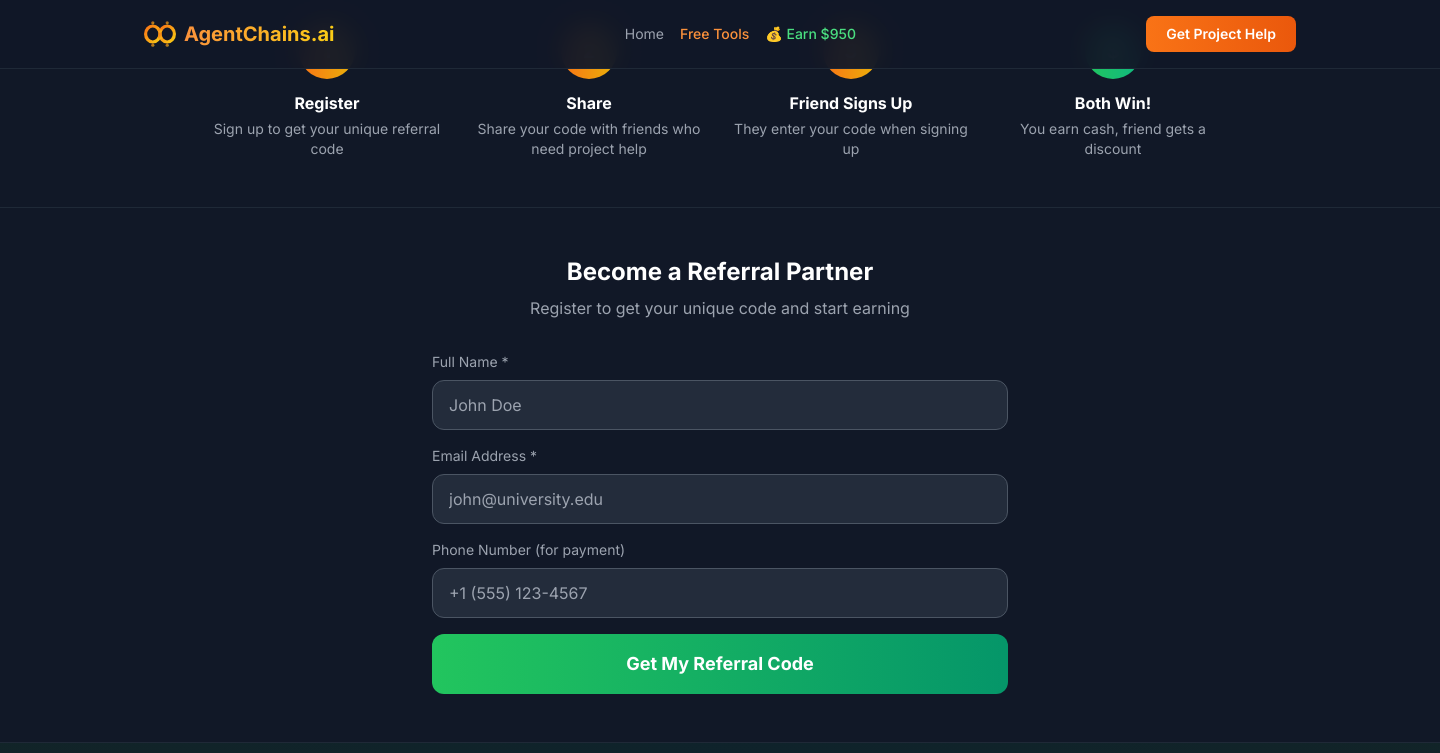
Test: Referral Page › Generated Code Display › displays generated code
(page scrolled)
In the field with placeholder "John Doe": [720, 405] box [432,380,1008,430], type "Test"
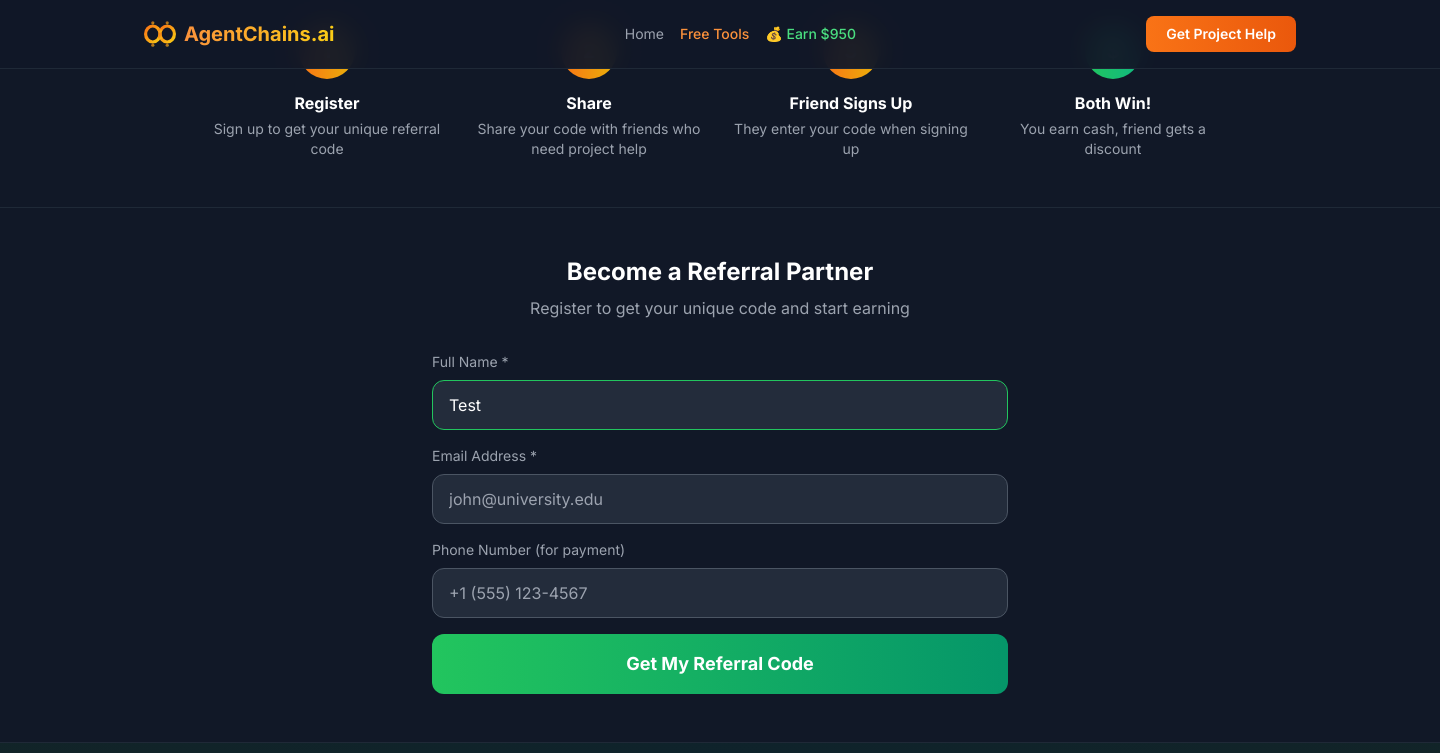
In the field with placeholder "john@university.edu": [720, 499] box [432,474,1008,524], type "test@test.com"
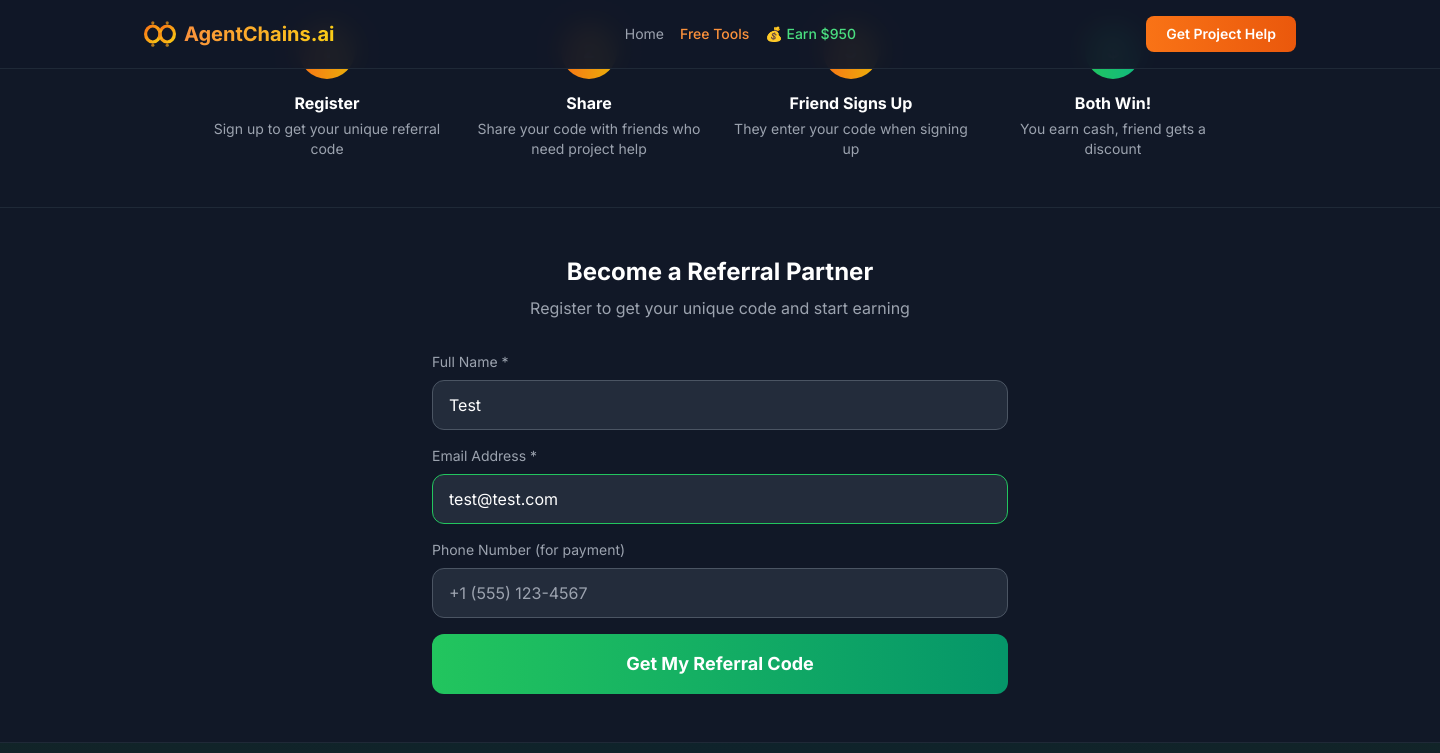
Click the button "Get My Referral Code": [720, 664] box [432,634,1008,694]
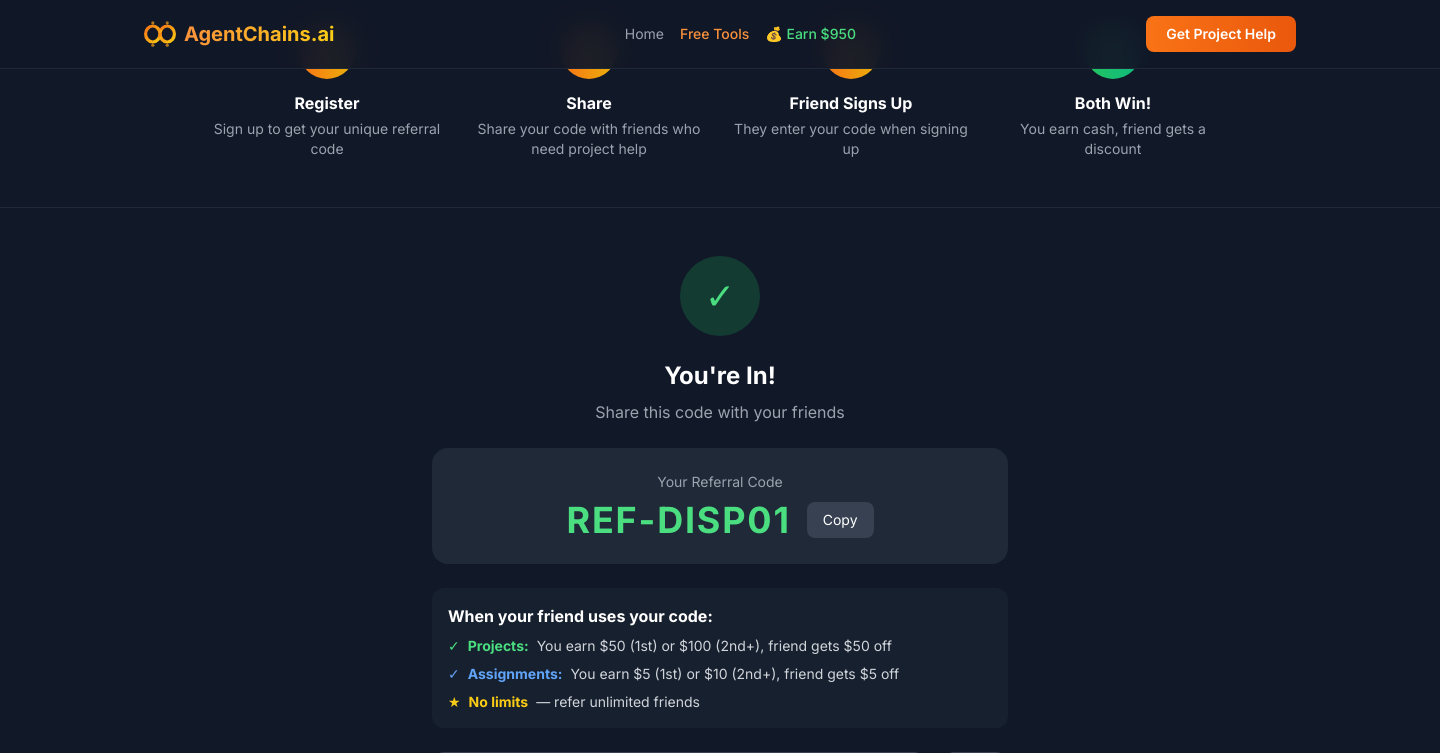
Result: the text "REF-DISP01" is shown at [566,500,791,540]
